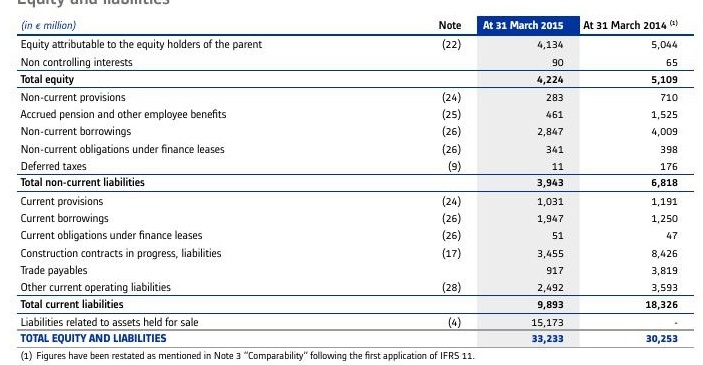table: (0, 0, 703, 365)
